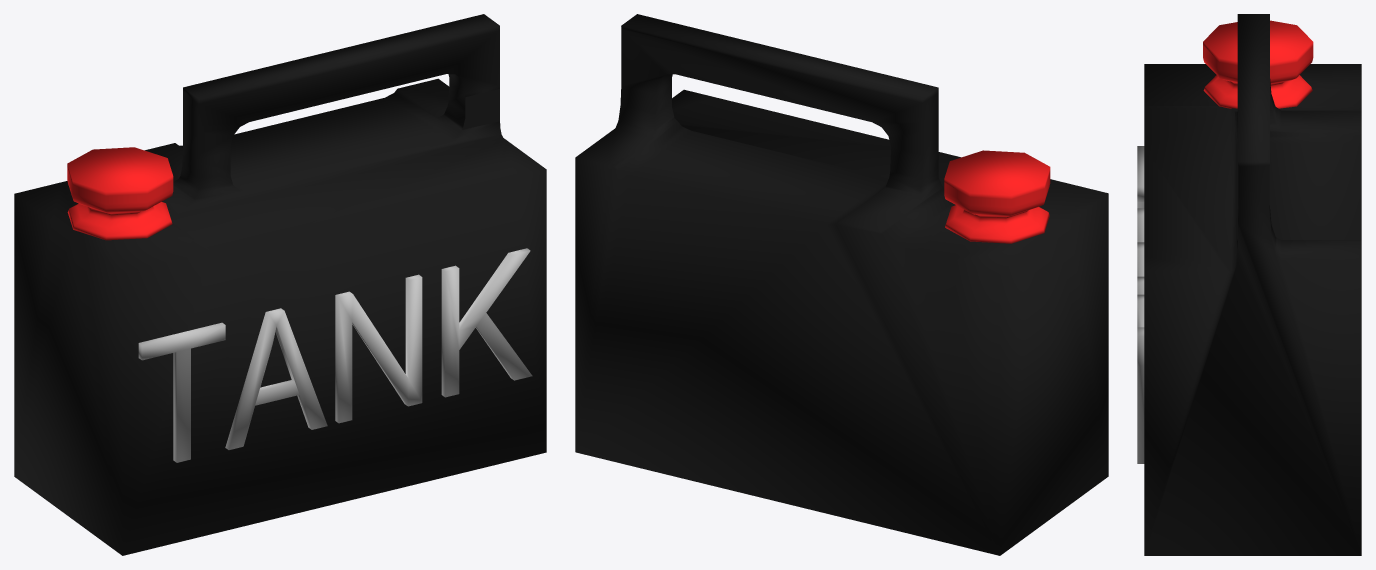
The model's file is Tank.FBX.
The picture shows the model from 3 angles, left to right: view 1: azimuth 30°, elevation 25°; view 2: azimuth 150°, elevation 25°; view 3: azimuth 270°, elevation 25°; orthographic projection.
Visible parts, largest first — view 1: Box001; view 2: Box001; view 3: Box001.
Boxes of the visible parts, left/top/right/bottom form: Box001: left=14, top=14, right=546, bottom=555; Box001: left=575, top=14, right=1108, bottom=555; Box001: left=1137, top=14, right=1361, bottom=555.
Bounding box in the file's own units: 45.22 × 40 × 20.65.
